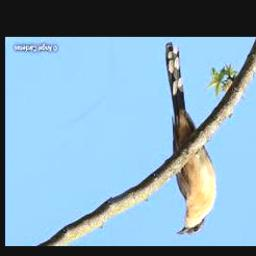Cuckoo: (165, 43, 216, 235)
